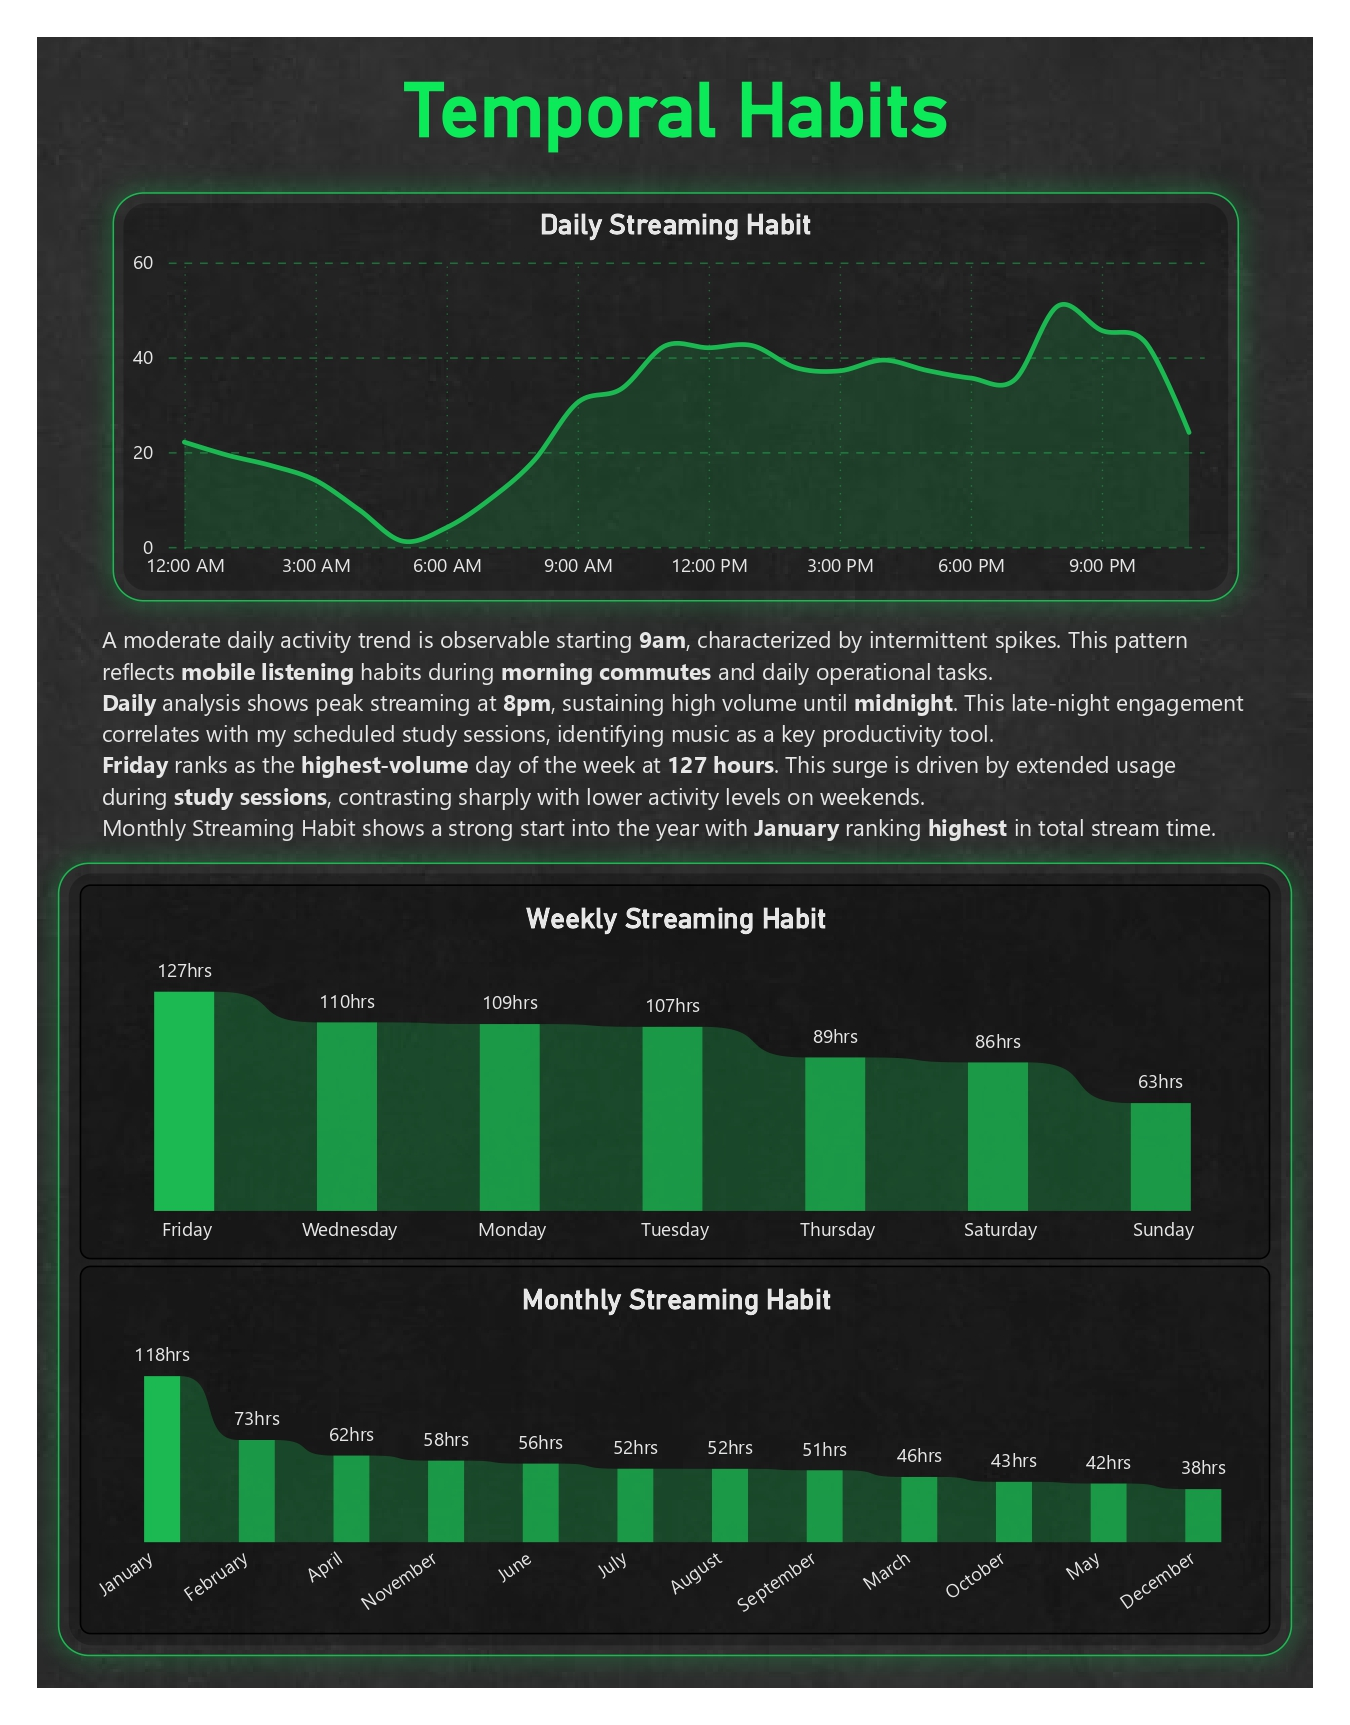

Layout of this report page (visuals, bound fields, positions):
{"tool":"powerbi","page":{"name":"Temporal Habits","canvas":[816,1056],"ordinal":5},"visuals":[{"type":"textbox","box":[0,13.2,816.8,71],"z":0},{"type":"shape","box":[47.9,99,721,262.3],"z":0,"group":"g2"},{"type":"textbox","box":[36.3,369.6,742.5,150.2],"z":1000},{"type":"shape","box":[13.2,528,790.4,508.2],"z":1000,"group":"g1"},{"type":"group","id":"g1","title":"Group 1","box":[13.2,528,790.4,508.2],"z":2000},{"type":"group","id":"g2","title":"Group 2","box":[47.9,99,721,262.3],"z":3000},{"type":"columnChart","title":"Weekly Streaming Habit","fields":{"Y":["Sum(Streaming dataset.Hours)"],"Category":["Streaming dataset.Day_name"]},"box":[27.3,542.4,761.6,239.4],"z":3000,"group":"g1"},{"type":"lineChart","title":"Daily Streaming Habit ","fields":{"Category":["Streaming dataset.Listen_Hour"],"Y":["Sum(Streaming dataset.Hours)"]},"box":[47.9,99,721,262.3],"z":4000,"group":"g2"},{"type":"columnChart","title":"Monthly Streaming Habit","fields":{"Y":["Sum(Streaming dataset.Hours)"],"Category":["Streaming dataset.Month_Name"]},"box":[27.3,785.9,761.6,236.4],"z":5000,"group":"g1"}]}

Visuals, with their boxes on the page's 816x1056 design canvas (x1, y1, x2, y2). These are canvas units, not pixel positions in the 1350x1725 screenshot, which may show the page scaled, cropped or inside an application window:
textbox: BBox(0, 13, 817, 84)
shape: BBox(48, 99, 769, 361)
textbox: BBox(36, 370, 779, 520)
shape: BBox(13, 528, 804, 1036)
"Group 1" group: BBox(13, 528, 804, 1036)
"Group 2" group: BBox(48, 99, 769, 361)
"Weekly Streaming Habit" columnChart: BBox(27, 542, 789, 782)
"Daily Streaming Habit " lineChart: BBox(48, 99, 769, 361)
"Monthly Streaming Habit" columnChart: BBox(27, 786, 789, 1022)
